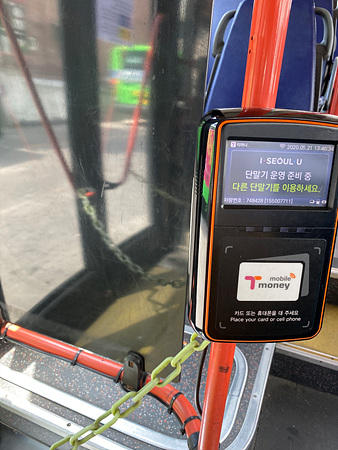terminal: (196, 105, 329, 338)
